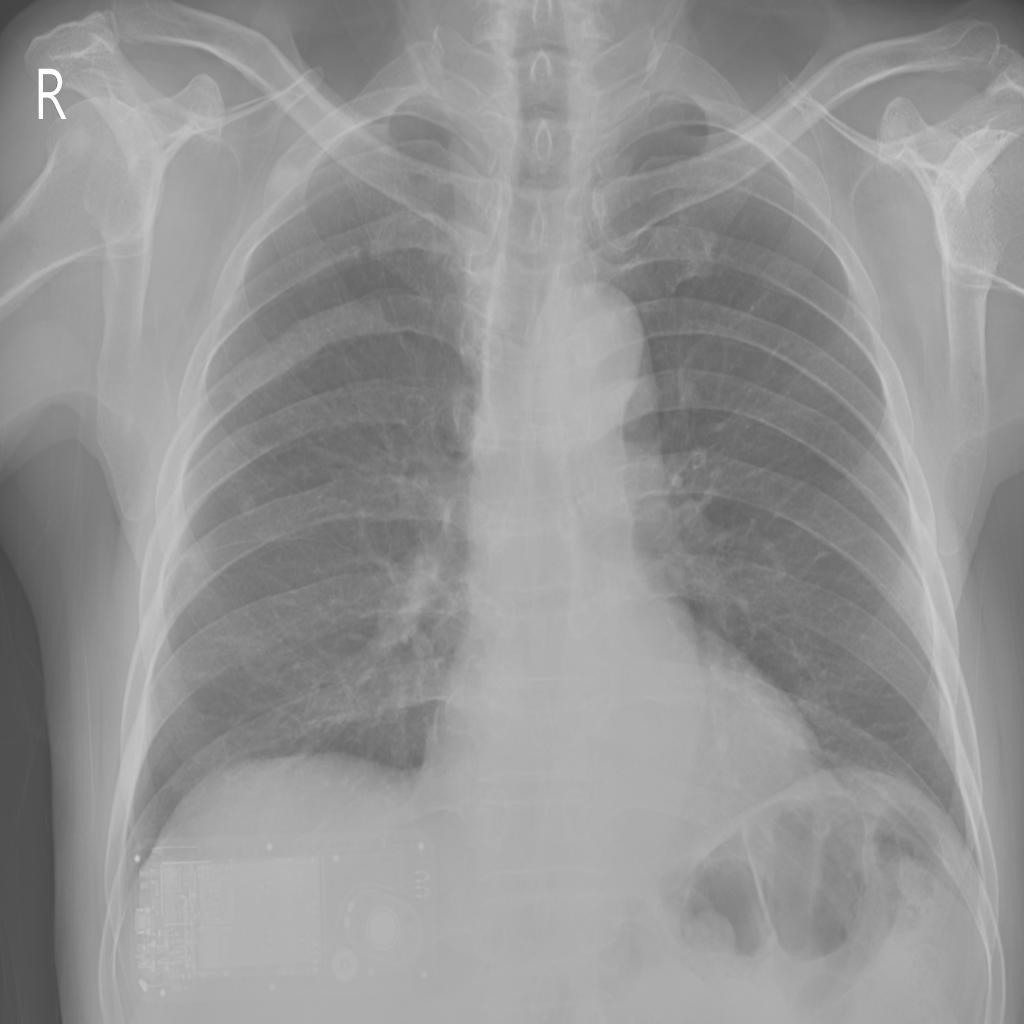Nodule: (240, 493, 256, 520)
